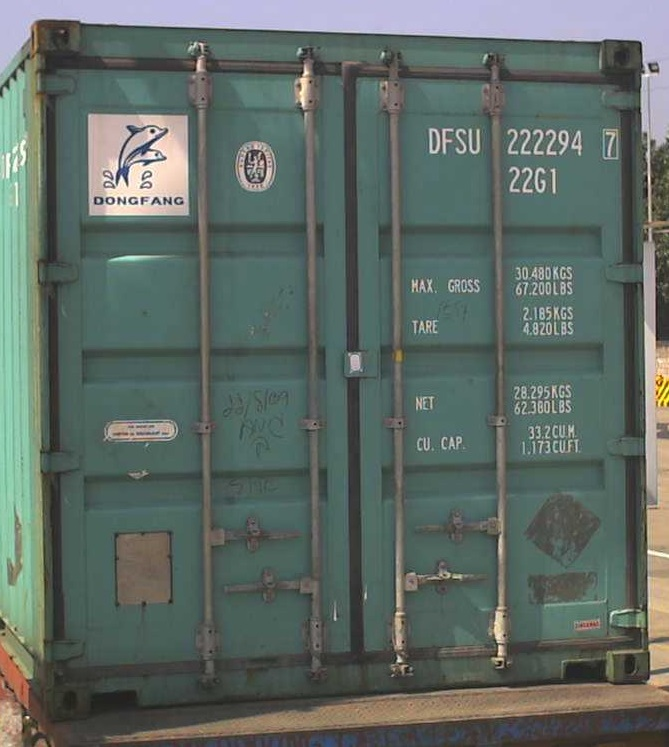container_door: (39, 12, 642, 727)
